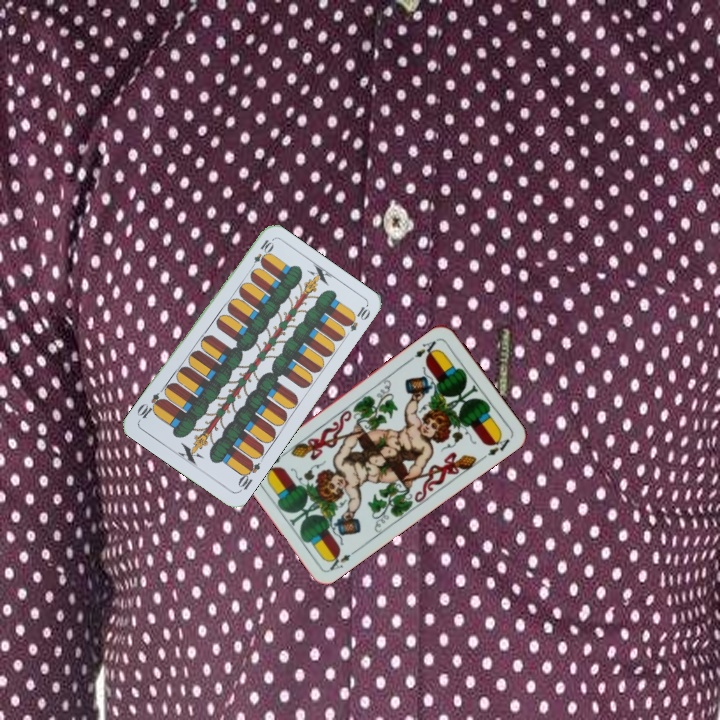E10: (234, 456, 263, 495), (246, 235, 275, 273)
EA: (406, 334, 441, 364), (324, 545, 361, 573)
